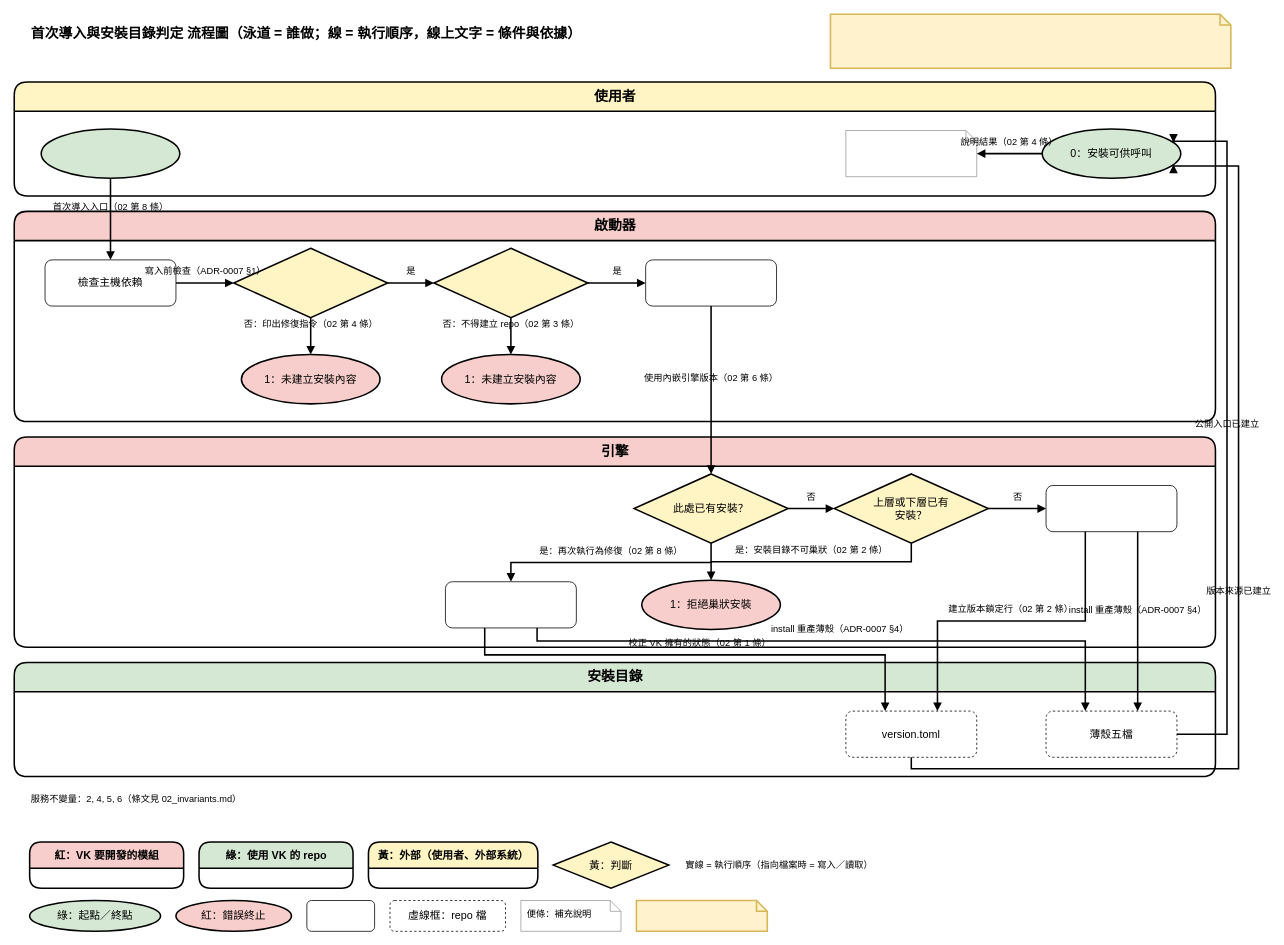
Some shapes in this 1284 by 945 pixel diagram are drawn without their labels. Each missing label, with the centre of its shape:
⚠ 契約衝突：已有安裝時的修復路徑畫成使用內嵌引擎版本。02 第 6 條規定已有版本鎖定行就一律用它指定的那一版，內嵌版本只用在第一次導入。: (x=1030, y=41)
下載並啟動引擎: (x=711, y=282)
主機依賴可用？: (x=310, y=282)
位於 git repo 內？: (x=510, y=282)
修復既有安裝: (x=510, y=604)
執行 bootstrap.sh: (x=110, y=153)
執行 install: (x=1111, y=508)
導入情境與承諾: (x=911, y=153)
白：步驟: (x=340, y=915)
黃便條：待處理問題: (x=701, y=915)
